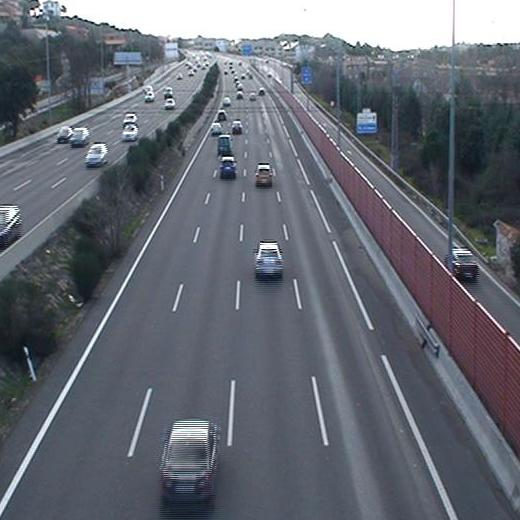car: (155, 414, 223, 519), (248, 236, 290, 286), (251, 160, 277, 191), (217, 153, 240, 184), (229, 119, 245, 136), (215, 109, 229, 121), (220, 95, 234, 107), (247, 90, 259, 103), (257, 85, 268, 97), (234, 90, 245, 100)
van: (215, 132, 233, 156)
